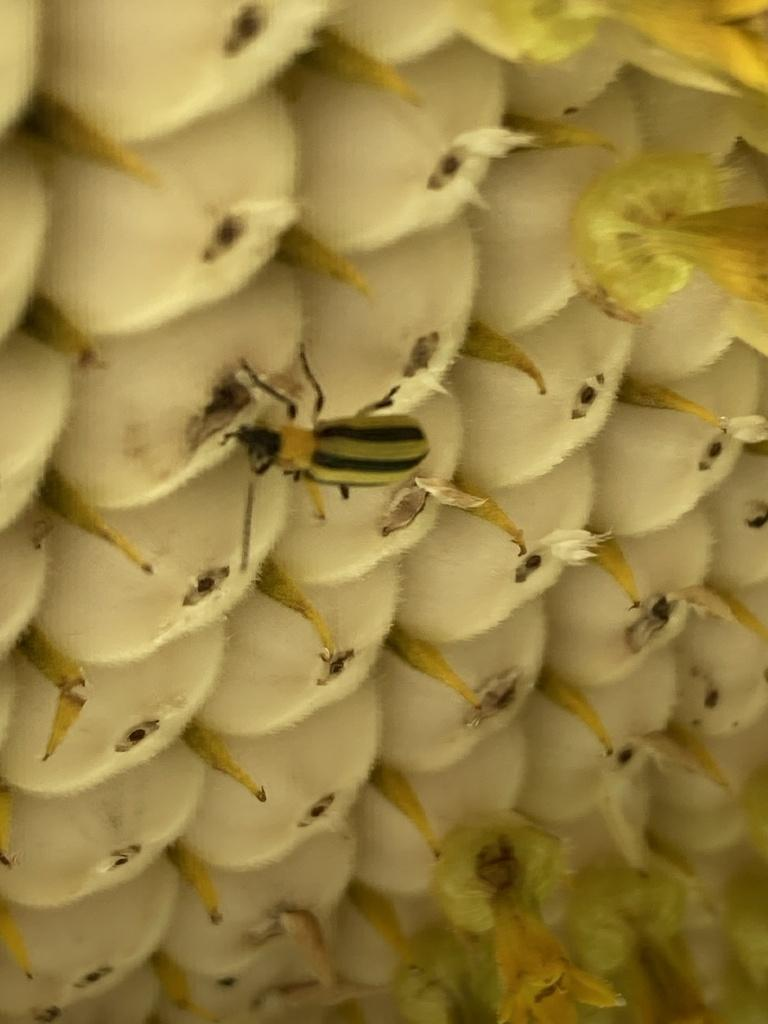potato_beetle: (177, 314, 474, 593)
